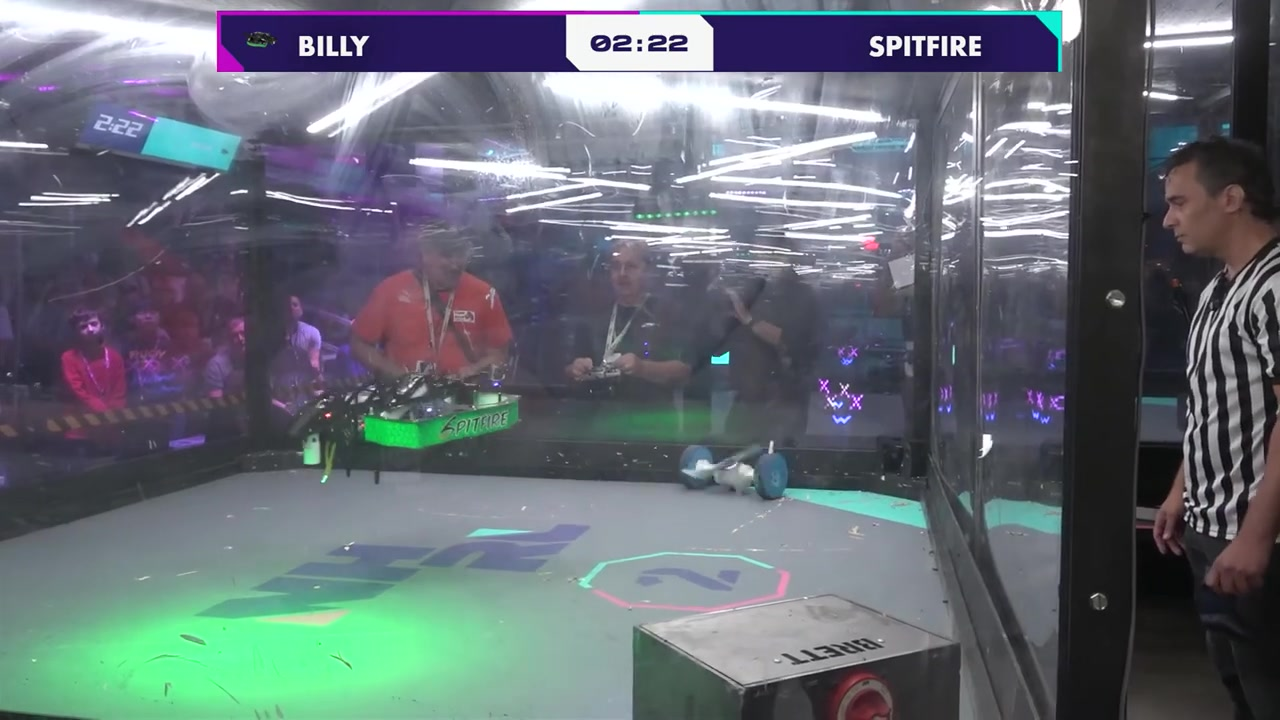combatbot: (288, 366, 528, 484), (680, 440, 791, 505)
housebot: (629, 593, 959, 720)
